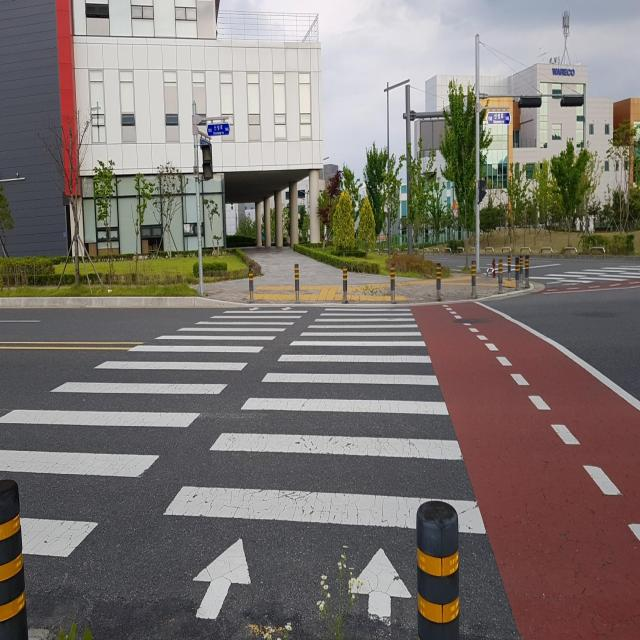횡단보도: (0, 300, 489, 628), (521, 267, 640, 293)
